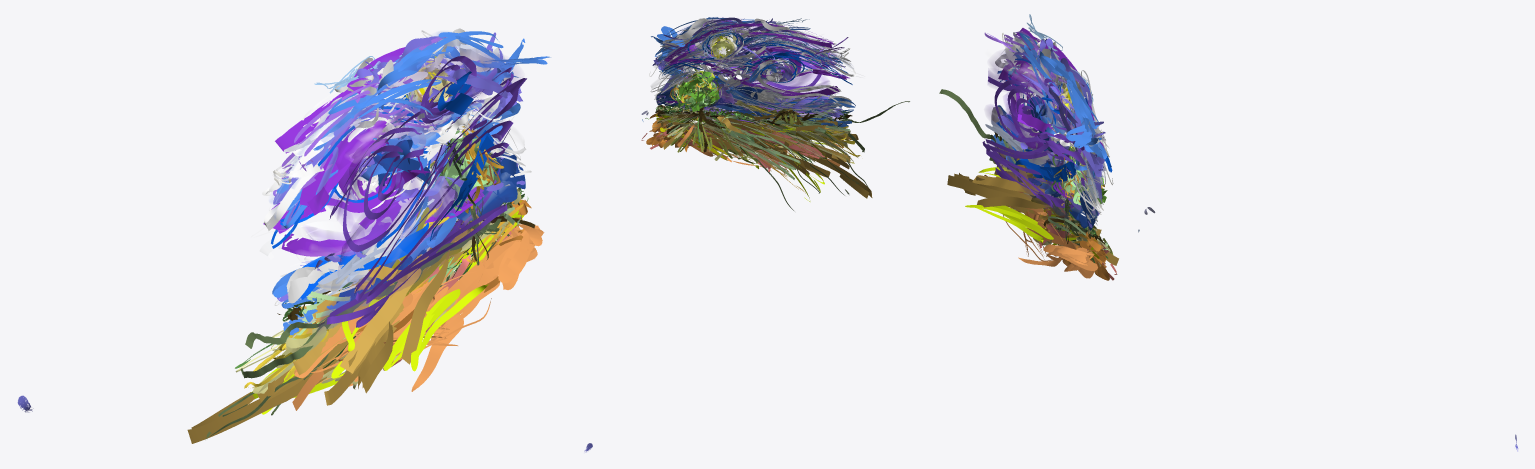
The model's file is obra1.glb.
3 views of the same model, side by side, from view 1: azimuth 30°, elevation 25°; view 2: azimuth 150°, elevation 25°; view 3: azimuth 270°, elevation 25° (orthographic). The views are drawn at different scales.
Parts seen in each view (by area): view 1: brush_DoubleTaperedMarker_g0_b0_3, brush_TaperedMarker_g0_b0_5, brush_Highlighter_g0_b0_9, brush_Ink_g0_b0_6, brush_DoubleTaperedFlat_g0_b0_8, brush_Marker_g0_b0_4, brush_Light_g0_b0_0; view 2: brush_DoubleTaperedMarker_g0_b0_3, brush_TaperedMarker_g0_b0_5, brush_Ink_g0_b0_6, brush_DoubleTaperedFlat_g0_b0_8, brush_Highlighter_g0_b0_9, brush_Light_g0_b0_0; view 3: brush_TaperedMarker_g0_b0_5, brush_DoubleTaperedMarker_g0_b0_3, brush_Highlighter_g0_b0_9, brush_Ink_g0_b0_6, brush_DoubleTaperedFlat_g0_b0_8.
Part boxes in pixels (bbox=[...]): brush_DoubleTaperedMarker_g0_b0_3: bbox=[187, 47, 534, 443]; brush_TaperedMarker_g0_b0_5: bbox=[251, 28, 550, 414]; brush_Highlighter_g0_b0_9: bbox=[253, 31, 524, 331]; brush_Ink_g0_b0_6: bbox=[235, 30, 526, 388]; brush_DoubleTaperedFlat_g0_b0_8: bbox=[235, 38, 528, 372]; brush_Marker_g0_b0_4: bbox=[444, 130, 500, 190]; brush_Light_g0_b0_0: bbox=[17, 234, 502, 439]; brush_DoubleTaperedMarker_g0_b0_3: bbox=[655, 19, 909, 198]; brush_TaperedMarker_g0_b0_5: bbox=[646, 17, 855, 201]; brush_Ink_g0_b0_6: bbox=[641, 17, 860, 193]; brush_DoubleTaperedFlat_g0_b0_8: bbox=[641, 18, 849, 179]; brush_Highlighter_g0_b0_9: bbox=[651, 17, 853, 118]; brush_Light_g0_b0_0: bbox=[584, 127, 868, 452]; brush_TaperedMarker_g0_b0_5: bbox=[965, 31, 1109, 280]; brush_DoubleTaperedMarker_g0_b0_3: bbox=[939, 28, 1118, 267]; brush_Highlighter_g0_b0_9: bbox=[986, 39, 1103, 218]; brush_Ink_g0_b0_6: bbox=[994, 31, 1155, 262]; brush_DoubleTaperedFlat_g0_b0_8: bbox=[1000, 14, 1139, 280].
Size of what is drawn, in the model's own units: 0.3192 by 0.4628 by 0.5901.
Materials: 8 (6 with a texture image).
